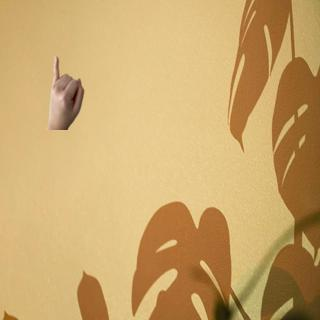FINE: (45, 55, 88, 125)
